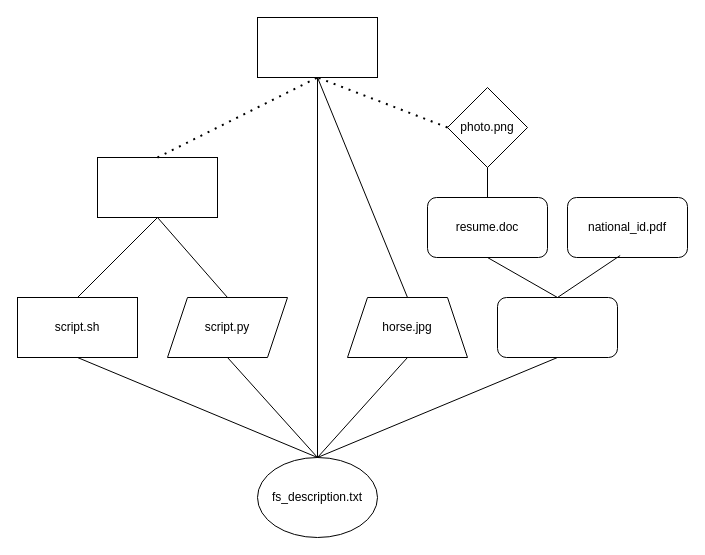
Some shapes in this 705 by 555 pixel diagram are drawn without their labels. Each missing label, with the centre of its shape:
"car.jpg" belongs at pixel 317 47.
"documents.carpet" belongs at pixel 557 327.
"stable_diffusion.py" belongs at pixel 157 187.
